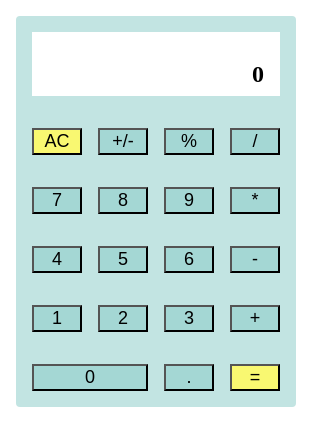
Calculator behavior › should divide two numbers
This screenshot has width=320, height=424.
Click the button "2".
click(123, 318)  # box [98,304,148,332]
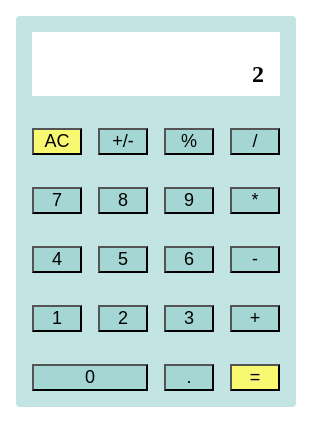
Click the button "/".
click(255, 141)  # box [230,128,280,154]
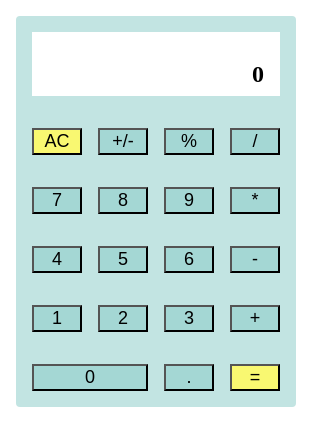
Click the button "2".
click(123, 318)  # box [98,304,148,332]
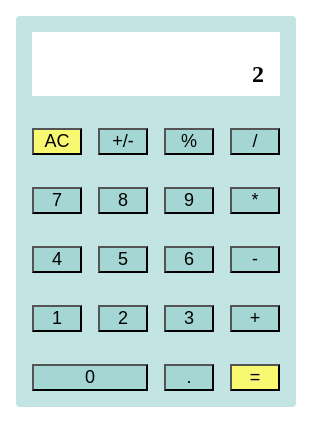
Click the button "=".
click(255, 377)  # box [230,364,280,390]
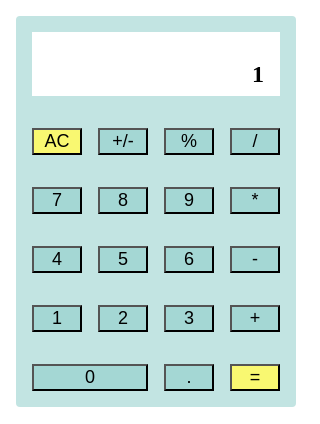
Expected: the text with test id "screen" reads "1", [252,60,264,86]
